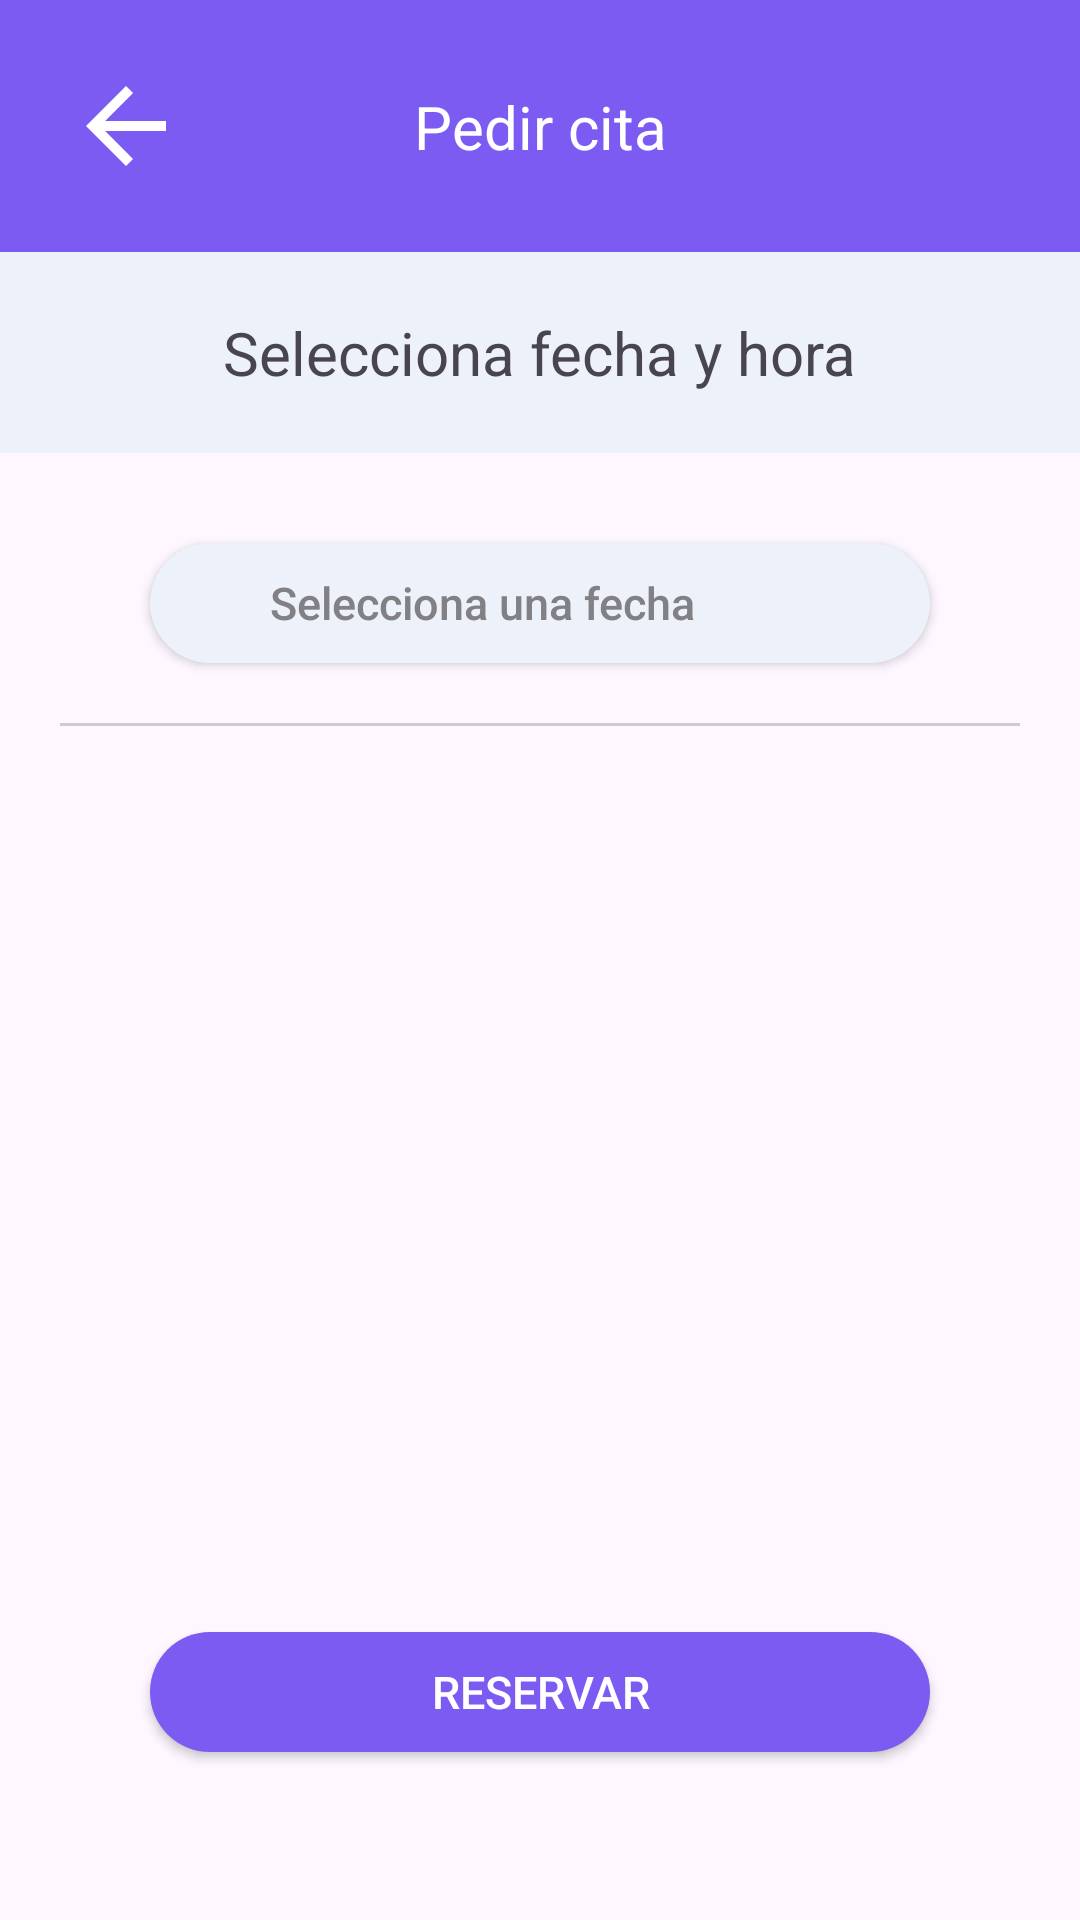

Where icons sit on this 1080x1920 app screen, as (x1, y1, x2, y2):
back arrow: (86, 86, 166, 166)
